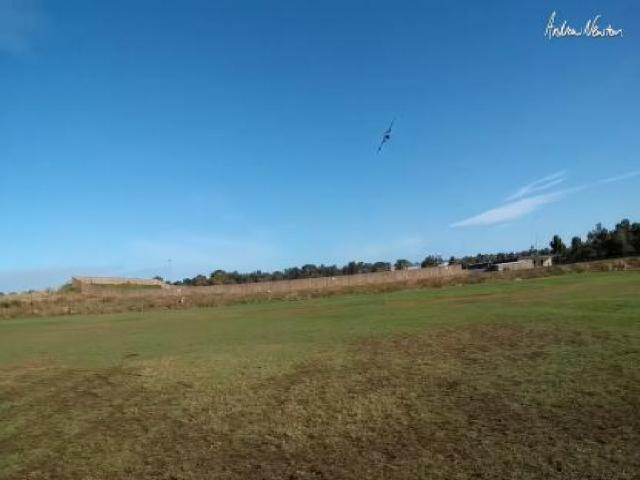uav: (373, 112, 401, 158)
